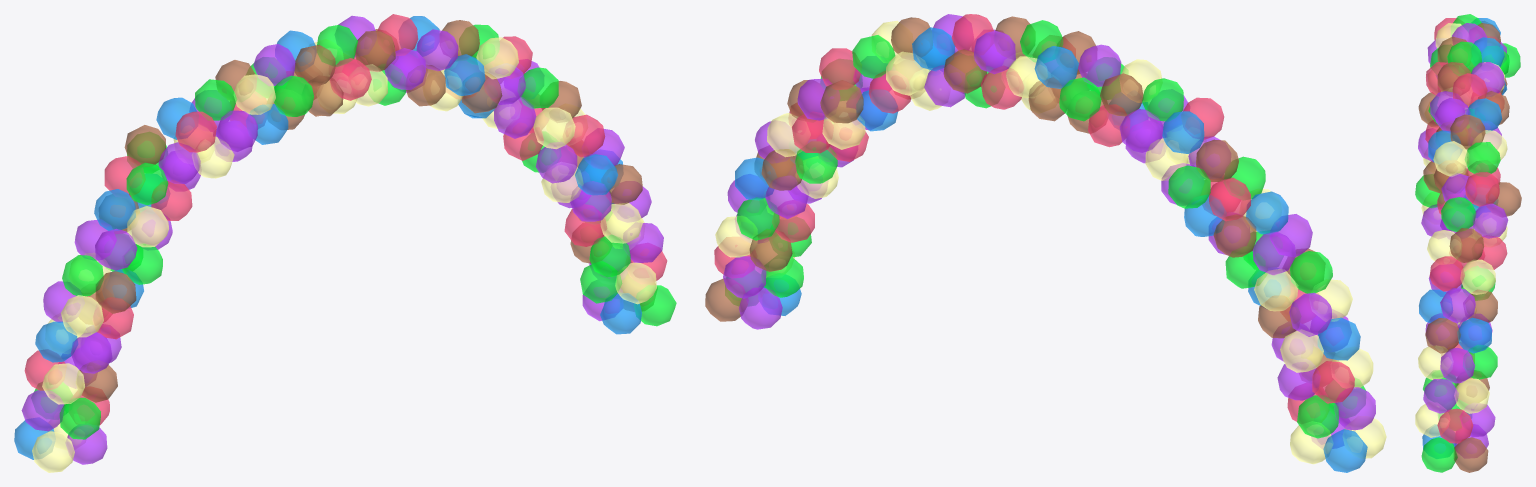
Rendered from balloon_arch.fbx.
3 views of the same model, side by side, from view 1: azimuth 30°, elevation 25°; view 2: azimuth 150°, elevation 25°; view 3: azimuth 270°, elevation 25° (orthographic). The views are drawn at different scales.
Parts seen in each view (by area): view 1: BalloonArch; view 2: BalloonArch; view 3: BalloonArch.
Part boxes in pixels (box(x1,y1,x2,y2)): BalloonArch: box(14, 14, 676, 472); BalloonArch: box(705, 14, 1386, 472); BalloonArch: box(1415, 14, 1521, 472).
Size of the model in its own units: 24.31 by 13.12 by 4.18.
